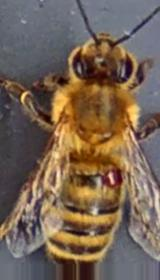varroa_mite: (92, 160, 131, 192)
